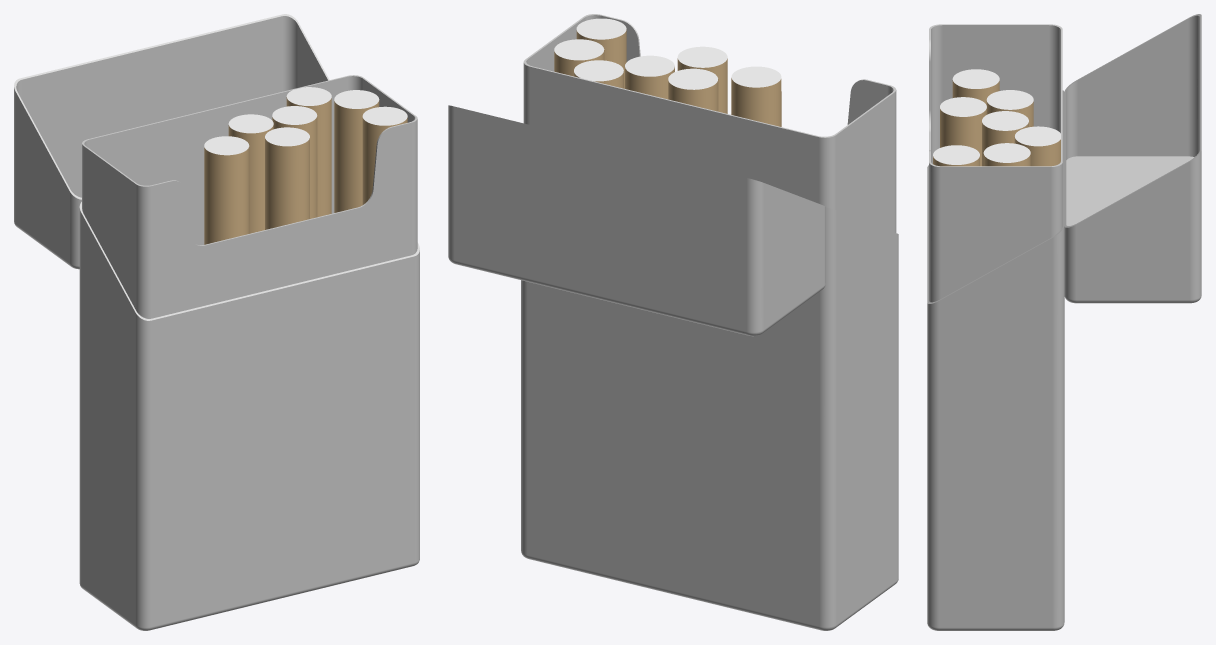
Rendered from タバコ開封フル.fbx.
3 views of the same model, side by side, from view 1: azimuth 30°, elevation 25°; view 2: azimuth 150°, elevation 25°; view 3: azimuth 270°, elevation 25° (orthographic). The views are drawn at different scales.
Visible parts, largest first — view 1: body, huta, tobacco05, tobacco03, tobacco07, tobacco02, tobacco01, tobacco04, tobacco06; view 2: body, huta, tobacco05, tobacco01, tobacco06, tobacco04, tobacco03, tobacco07, tobacco02; view 3: body, huta, tobacco03, tobacco02, tobacco06, tobacco05, tobacco01, tobacco07, tobacco04.
Part boxes in pixels (left/top/right/bottom): body: left=79, top=75, right=419, bottom=630; huta: left=14, top=14, right=329, bottom=269; tobacco05: left=204, top=136, right=249, bottom=244; tobacco03: left=265, top=127, right=309, bottom=229; tobacco07: left=334, top=90, right=379, bottom=212; tobacco02: left=286, top=87, right=331, bottom=217; tobacco01: left=228, top=114, right=273, bottom=233; tobacco04: left=362, top=106, right=407, bottom=204; tobacco06: left=272, top=106, right=317, bottom=218; body: left=521, top=14, right=898, bottom=630; huta: left=448, top=105, right=825, bottom=336; tobacco05: left=731, top=66, right=781, bottom=126; tobacco01: left=668, top=68, right=718, bottom=111; tobacco06: left=625, top=55, right=674, bottom=99; tobacco04: left=576, top=18, right=626, bottom=88; tobacco03: left=677, top=46, right=727, bottom=113; tobacco07: left=554, top=39, right=604, bottom=76; tobacco02: left=574, top=60, right=623, bottom=88; body: left=927, top=24, right=1064, bottom=630; huta: left=1064, top=14, right=1201, bottom=303; tobacco03: left=940, top=97, right=986, bottom=166; tobacco02: left=1014, top=126, right=1060, bottom=166; tobacco06: left=982, top=111, right=1028, bottom=166; tobacco05: left=952, top=69, right=999, bottom=104; tobacco01: left=986, top=90, right=1033, bottom=127; tobacco07: left=983, top=143, right=1030, bottom=166; tobacco04: left=933, top=145, right=979, bottom=166.
Bounding box in the file's own units: 5.72 × 8.84 × 4.6.
